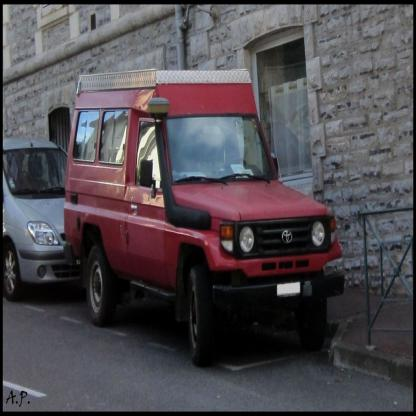Car: (3, 117, 86, 303)
